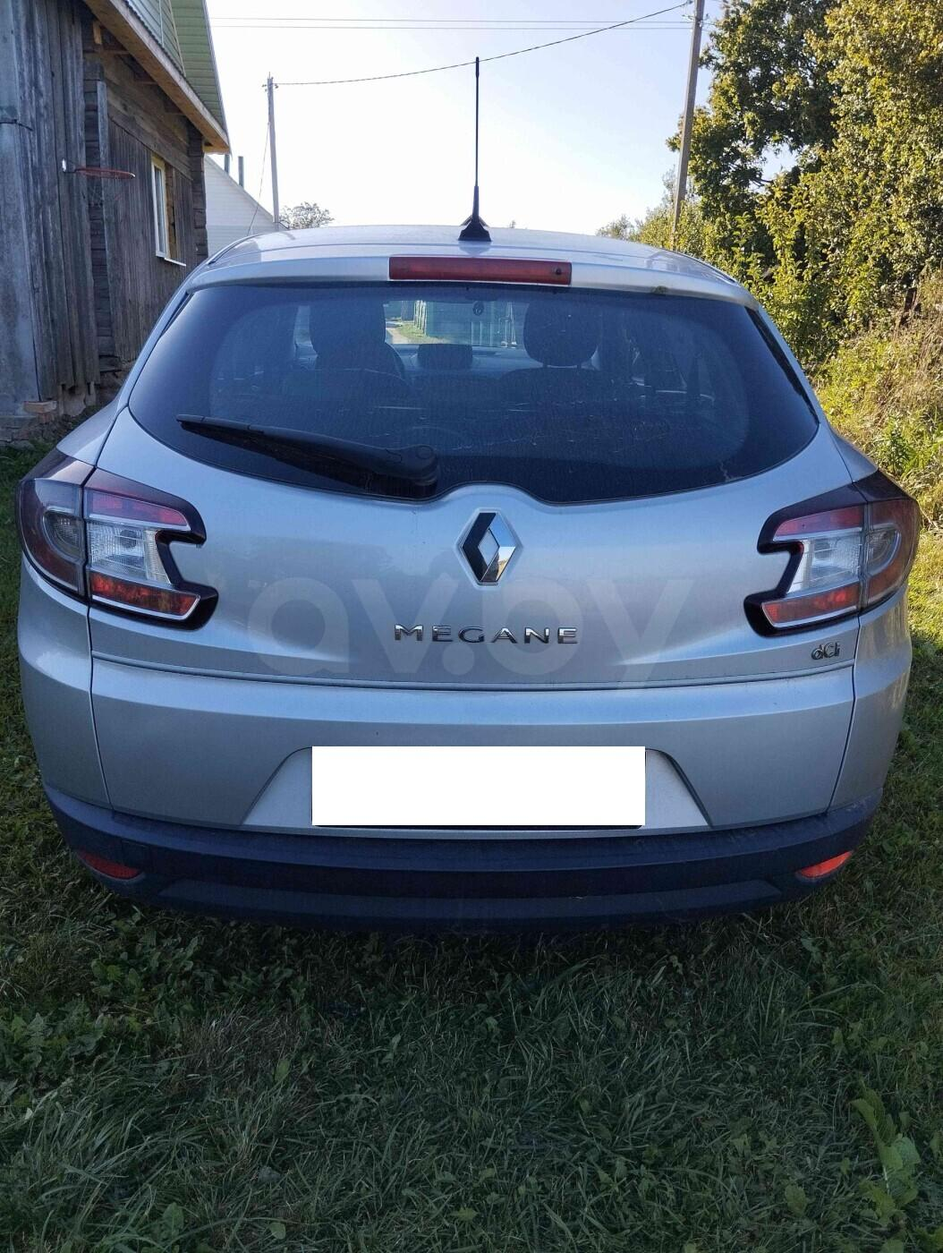Megane_2008-2014: (11, 220, 929, 945)
